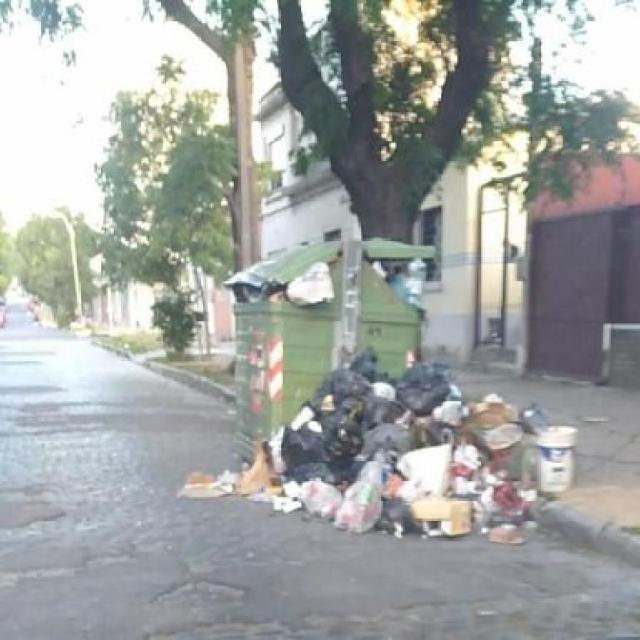garbage: (183, 351, 584, 548), (234, 266, 449, 330)
